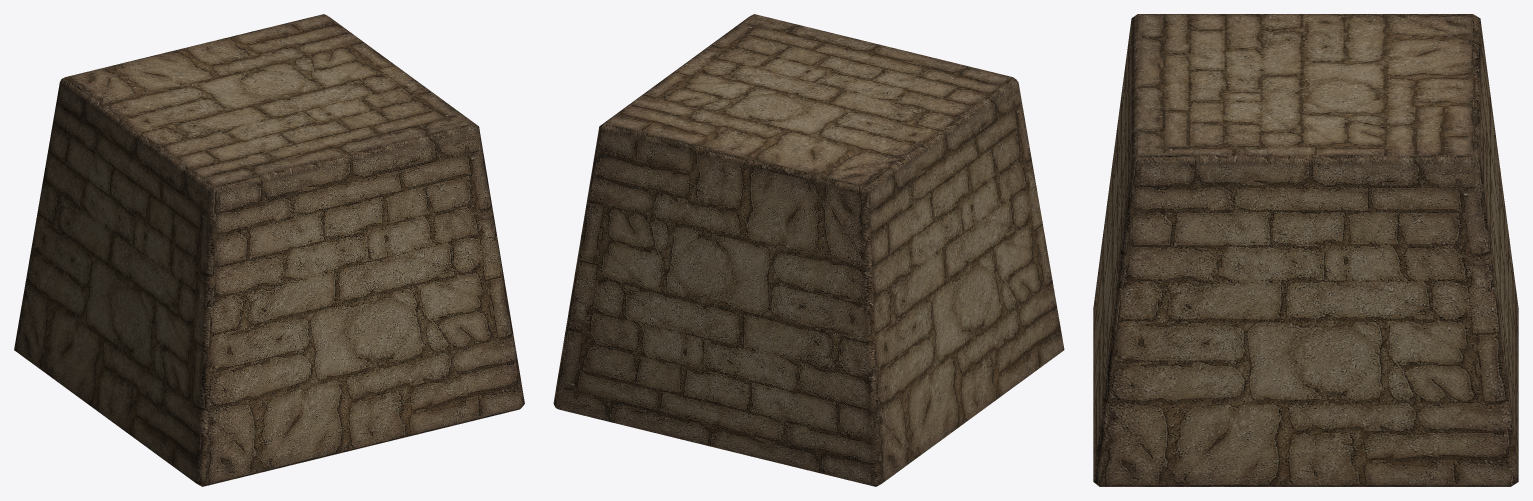
File: Block_05.fbx
The picture shows the model from 3 angles, left to right: view 1: azimuth 30°, elevation 25°; view 2: azimuth 150°, elevation 25°; view 3: azimuth 270°, elevation 25°; orthographic projection. The views are drawn at different scales.
Parts seen in each view (by area): view 1: Block_05; view 2: Block_05; view 3: Block_05.
Part boxes in pixels (x1=…): Block_05: x1=14, y1=14, x2=524, y2=486; Block_05: x1=553, y1=14, x2=1064, y2=486; Block_05: x1=1093, y1=14, x2=1518, y2=486.
Bounding box in the file's own units: 4.89 × 4 × 4.89.
